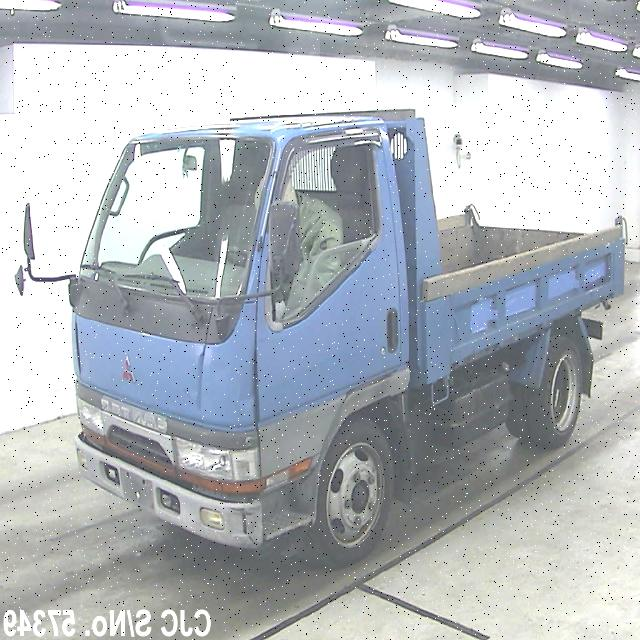truck: (24, 110, 626, 559)
